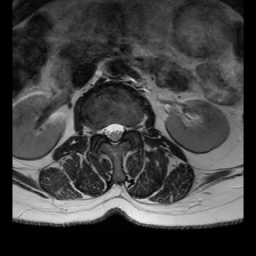CCS_normal: (111, 115, 118, 151)
LFS_stenosis: (126, 115, 135, 137)
LLS_normal: (118, 115, 126, 144)
RFS_stenosis: (96, 119, 103, 142)
RLS_normal: (103, 115, 111, 144)
